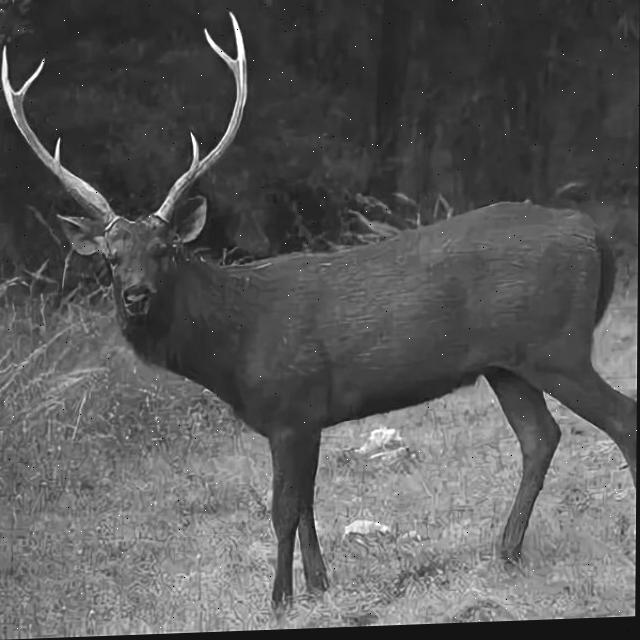Deer: (19, 75, 638, 582)
